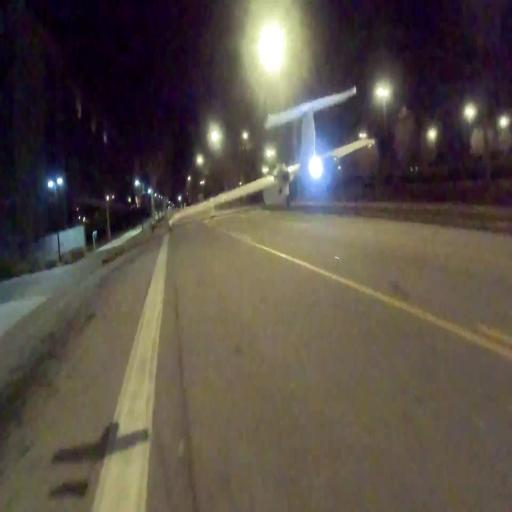uav: (168, 100, 381, 222)
